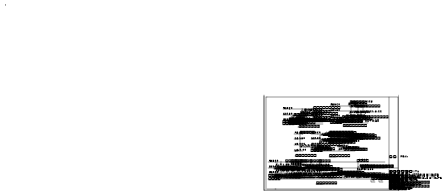corridor: (343, 22, 354, 26)
door: (363, 17, 366, 17)
room: (343, 22, 354, 26), (403, 77, 407, 80), (316, 23, 321, 25)
wall: (407, 80, 408, 82)
